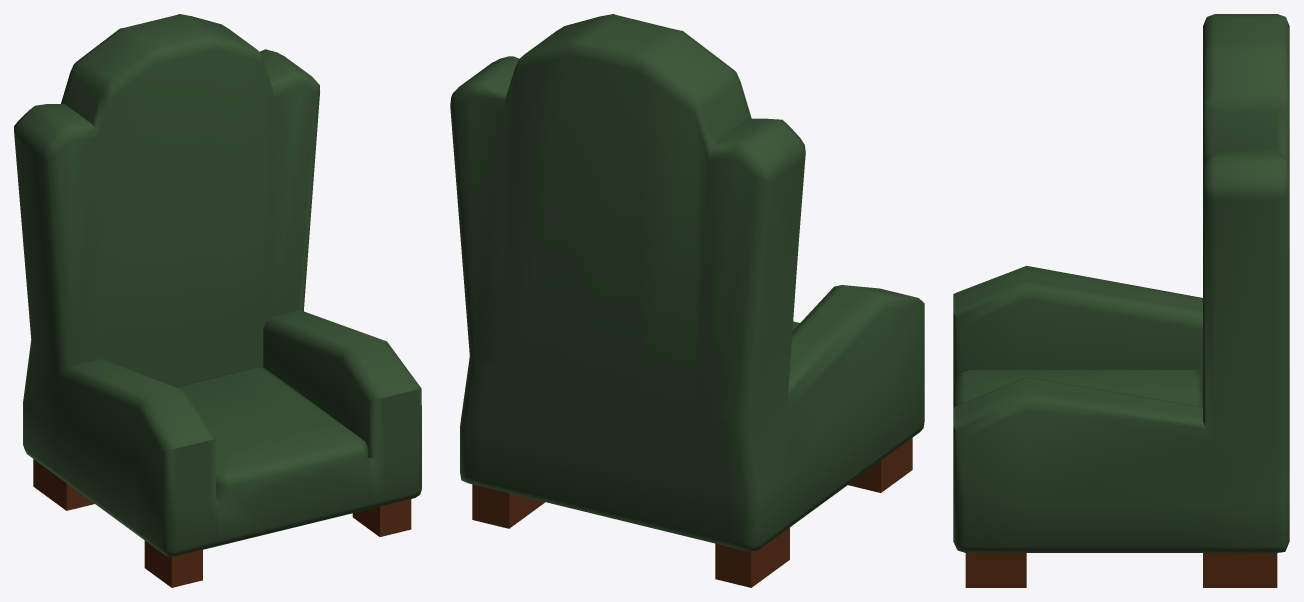
File: Sillon.fbx
The picture shows the model from 3 angles, left to right: view 1: azimuth 30°, elevation 25°; view 2: azimuth 150°, elevation 25°; view 3: azimuth 270°, elevation 25°; orthographic projection. The views are drawn at different scales.
Parts seen in each view (by area): view 1: Sillon placeholder; view 2: Sillon placeholder; view 3: Sillon placeholder.
Part boxes in pixels (x1=…): Sillon placeholder: x1=14, y1=14, x2=421, y2=587; Sillon placeholder: x1=450, y1=14, x2=924, y2=587; Sillon placeholder: x1=953, y1=14, x2=1289, y2=587.
Bounding box in the file's own units: 214 × 323 × 200.
